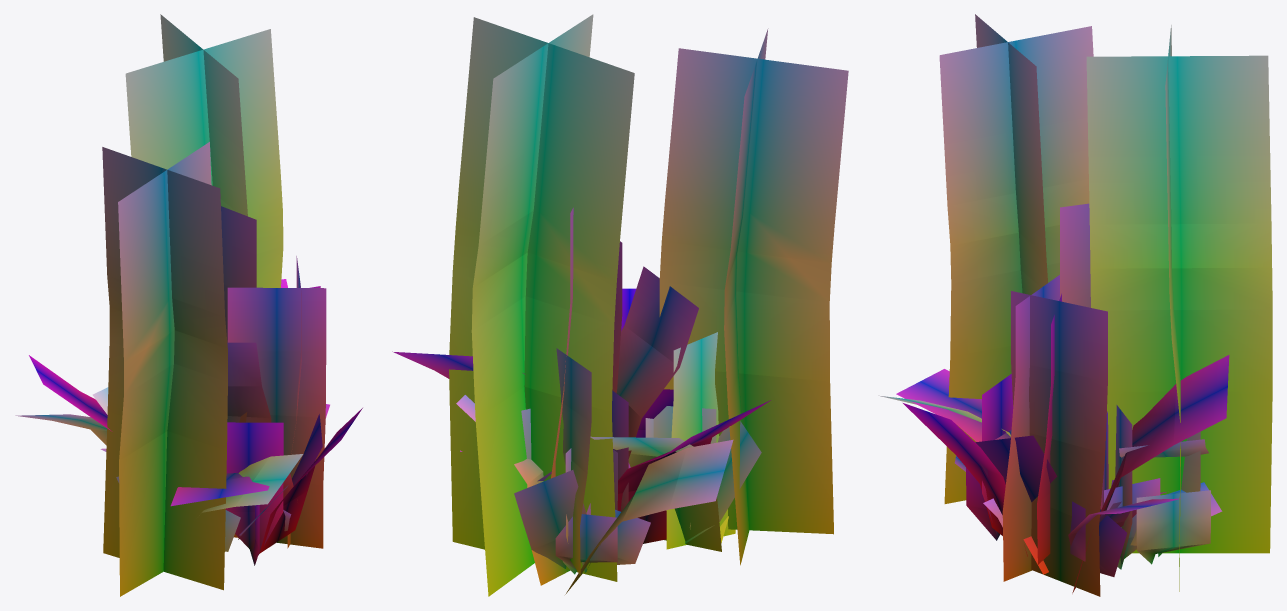
The model's file is fine_filbert_03_1.fbx.
The picture shows the model from 3 angles, left to right: view 1: azimuth 30°, elevation 25°; view 2: azimuth 150°, elevation 25°; view 3: azimuth 270°, elevation 25°; orthographic projection. The views are drawn at different scales.
Parts seen in each view (by area): view 1: fine_filbert_03_1_lod_0; view 2: fine_filbert_03_1_lod_0; view 3: fine_filbert_03_1_lod_0.
Boxes of the visible parts, x1,y1,x2,y2 form: fine_filbert_03_1_lod_0: (15,14,362,596); fine_filbert_03_1_lod_0: (392,14,848,596); fine_filbert_03_1_lod_0: (878,14,1272,596).
Size of what is drawn, in the model's own units: 0.6668 by 0.724 by 1.03.
